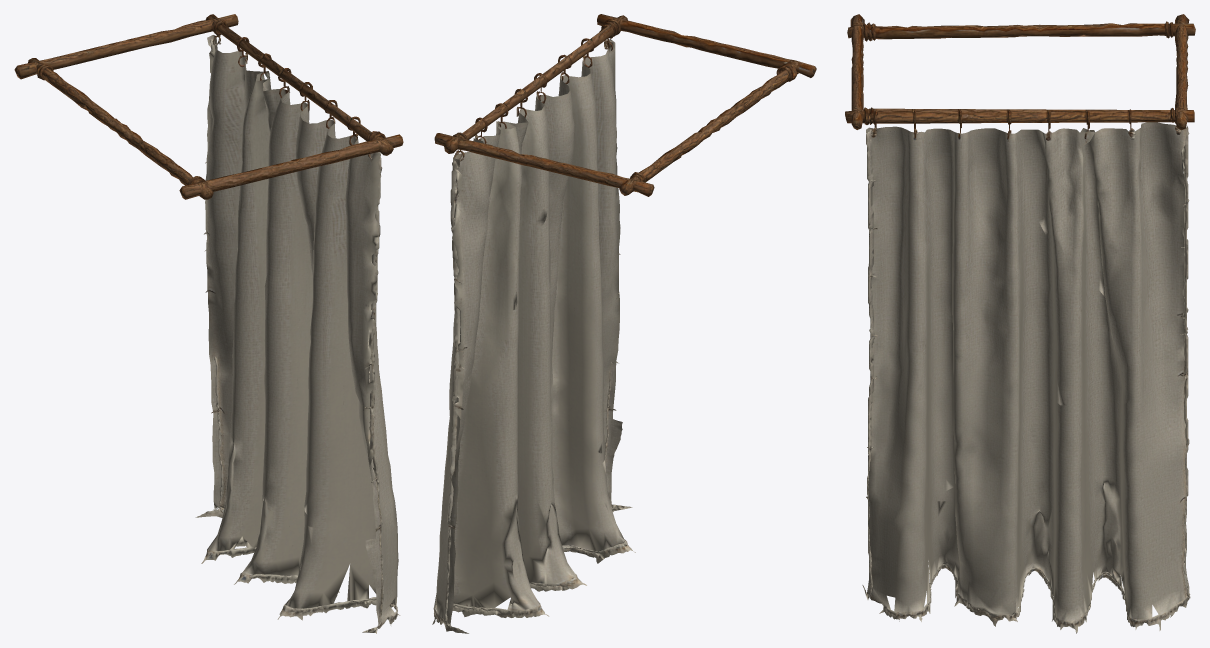
The model's file is prop-hanging-drape-v01.glb.
The picture shows the model from 3 angles, left to right: view 1: azimuth 30°, elevation 25°; view 2: azimuth 150°, elevation 25°; view 3: azimuth 270°, elevation 25°; orthographic projection.
Visible parts, largest first — view 1: tripo_node_8da21c23-9814-42c2-abb2-fb1914c2e417; view 2: tripo_node_8da21c23-9814-42c2-abb2-fb1914c2e417; view 3: tripo_node_8da21c23-9814-42c2-abb2-fb1914c2e417.
Boxes of the visible parts, <box> form: tripo_node_8da21c23-9814-42c2-abb2-fb1914c2e417: <box>14,14,403,633</box>; tripo_node_8da21c23-9814-42c2-abb2-fb1914c2e417: <box>432,14,816,633</box>; tripo_node_8da21c23-9814-42c2-abb2-fb1914c2e417: <box>845,14,1195,633</box>.
Bounding box in the file's own units: 1.25 × 2.53 × 1.59.
Materials: 1 (1 with a texture image).
